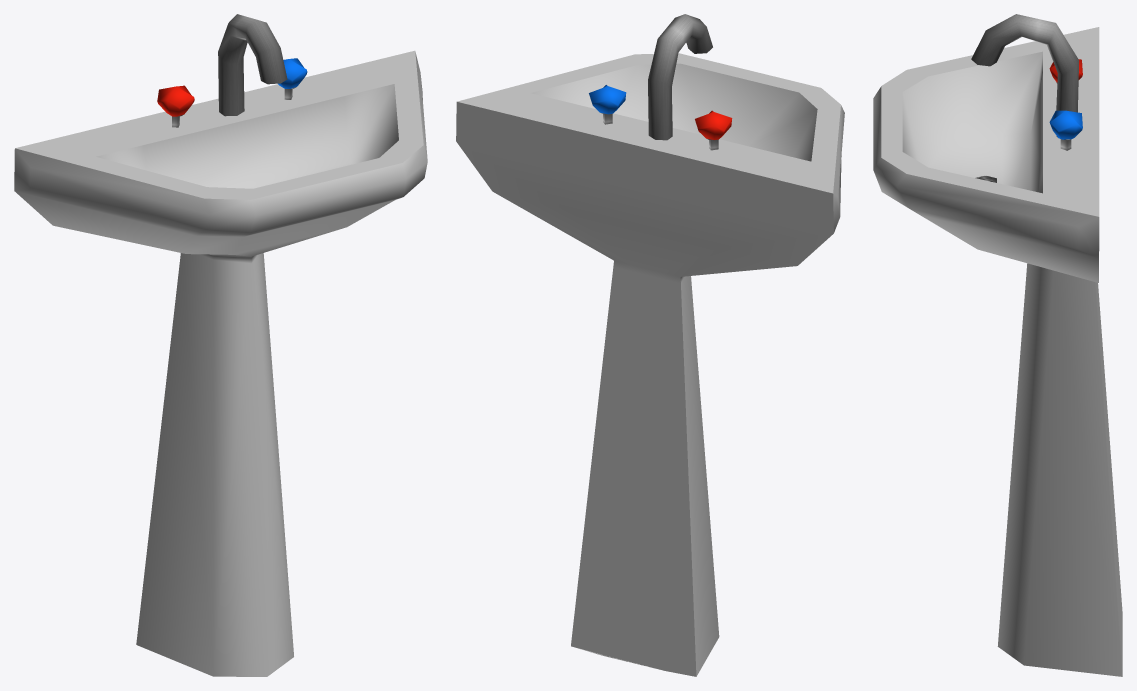
Rendered from Bathroom_Sink.FBX.
3 views of the same model, side by side, from view 1: azimuth 30°, elevation 25°; view 2: azimuth 150°, elevation 25°; view 3: azimuth 270°, elevation 25° (orthographic). The views are drawn at different scales.
Visible parts, largest first — view 1: Bathroom_Sink; view 2: Bathroom_Sink; view 3: Bathroom_Sink.
Boxes of the visible parts, bbox=[...] form: Bathroom_Sink: bbox=[14, 14, 427, 676]; Bathroom_Sink: bbox=[456, 14, 844, 676]; Bathroom_Sink: bbox=[873, 14, 1122, 676].
Bounding box in the file's own units: 150 × 233 × 83.14.
